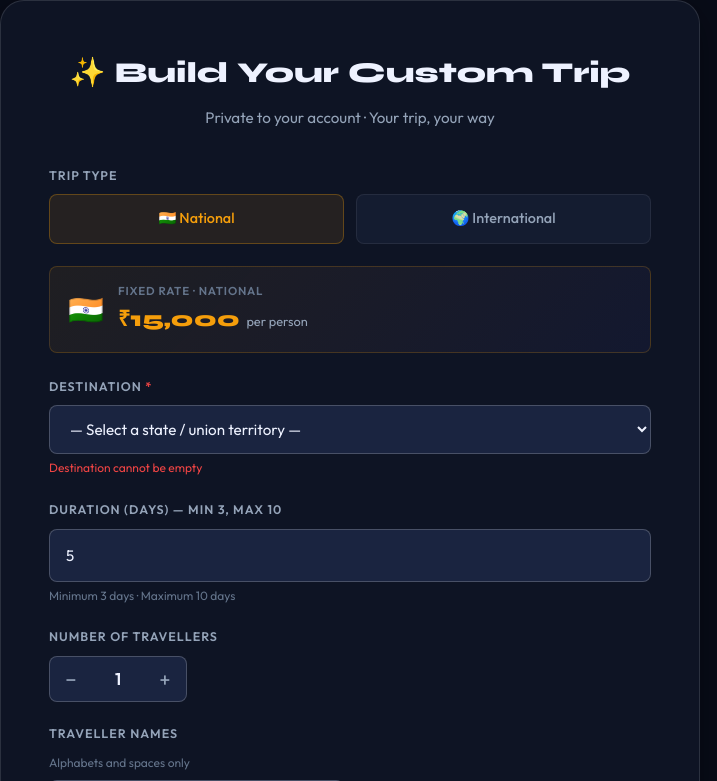
CustomPackageTab Component › duration is clamped to max 10
Replace the text in the number field showing "5" with "15" at x=350, y=555, box [49, 528, 651, 582]
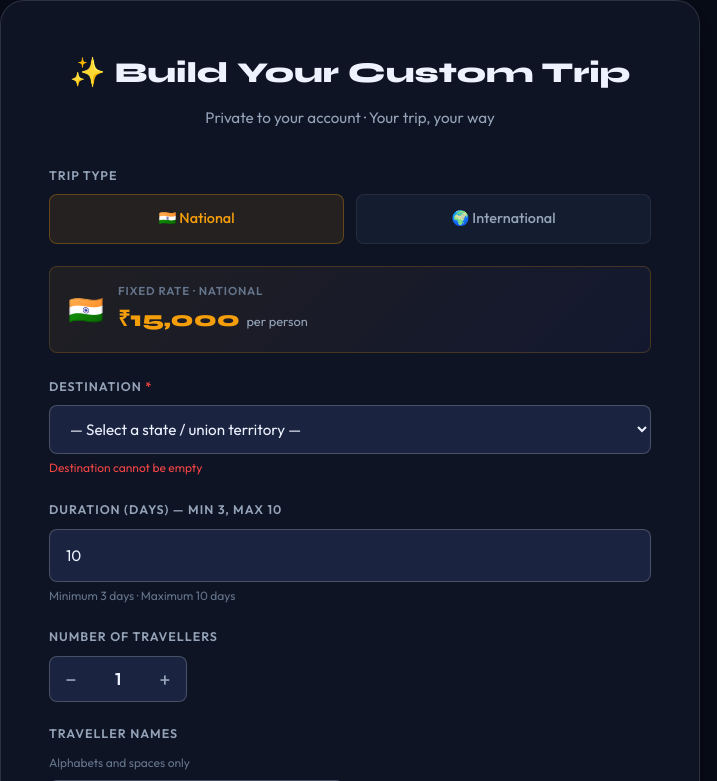
Now the number field showing "5" holds "10", box [49, 528, 651, 582]
